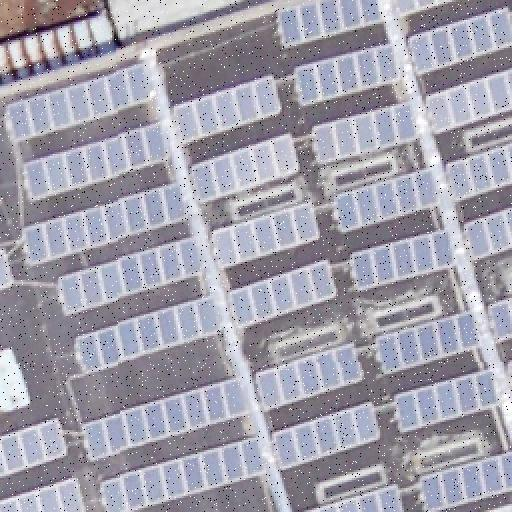solar-panel: (82, 374, 250, 458), (22, 179, 190, 261), (100, 433, 268, 511), (74, 291, 222, 373), (21, 122, 171, 202), (58, 237, 206, 315), (7, 64, 153, 140), (251, 341, 365, 411), (271, 400, 385, 468), (191, 134, 305, 202), (404, 9, 512, 79), (229, 258, 339, 326), (173, 74, 283, 142), (208, 203, 320, 269), (375, 311, 481, 377), (294, 41, 402, 103), (329, 170, 439, 230), (395, 369, 501, 431), (312, 101, 416, 163), (350, 231, 458, 289), (416, 448, 512, 512), (424, 68, 512, 132), (276, 1, 384, 47), (444, 139, 512, 205), (0, 417, 72, 479), (0, 473, 88, 511), (299, 481, 405, 511), (464, 205, 512, 259), (486, 297, 512, 343), (394, 0, 450, 16), (0, 248, 16, 288), (505, 358, 511, 374)
